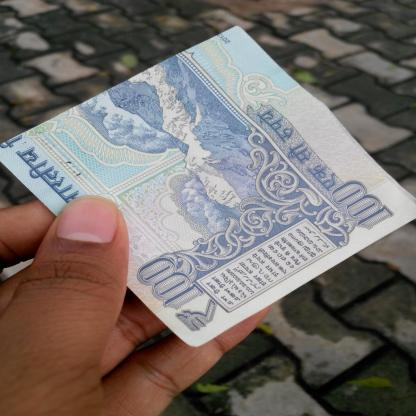Old100Back: (0, 21, 416, 349)
